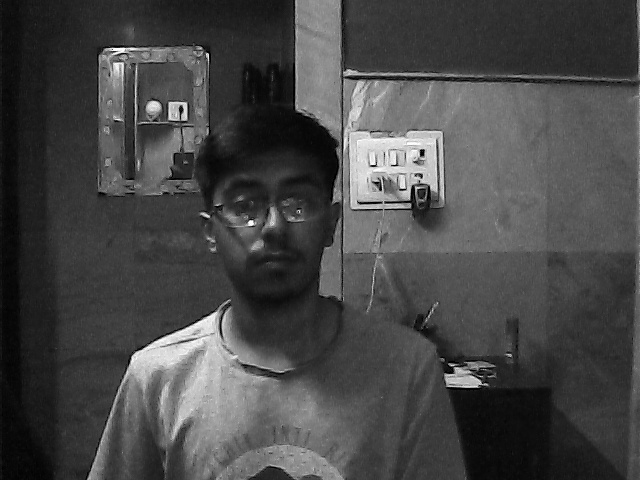nomask: (207, 139, 338, 303)
